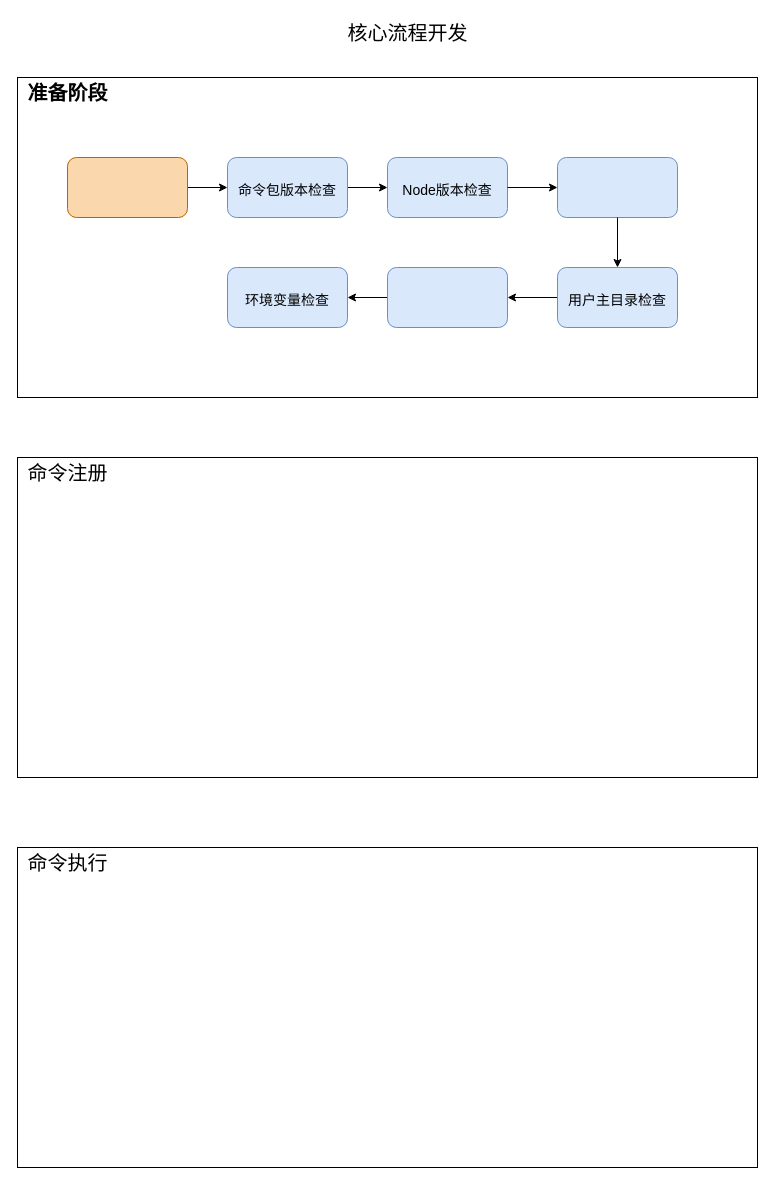
Image size: 775x1185. Some labels were removed from this diagram. The box of each missing label's shape, as (x1, y1, x2, y2) in pixels:
import-local: (66, 156, 188, 218)
Root账户检查 和降级: (556, 156, 678, 218)
入参检查: (386, 266, 508, 328)
